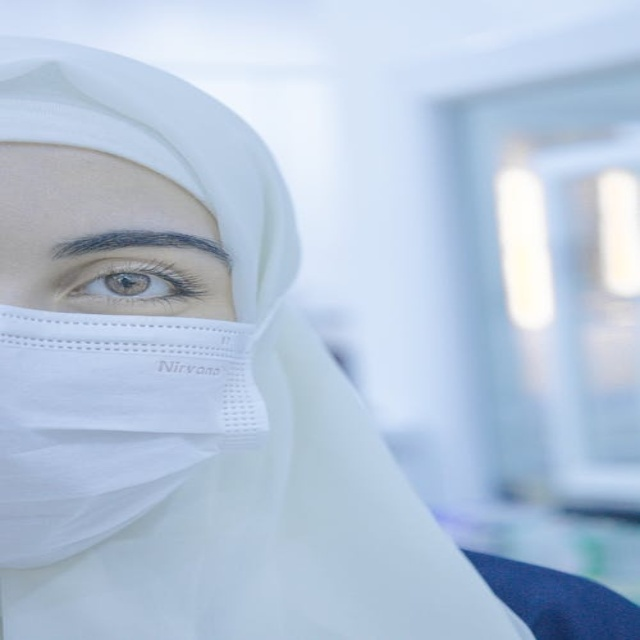Mascara: (0, 296, 272, 572)
Sin_gafas: (1, 221, 250, 320)
